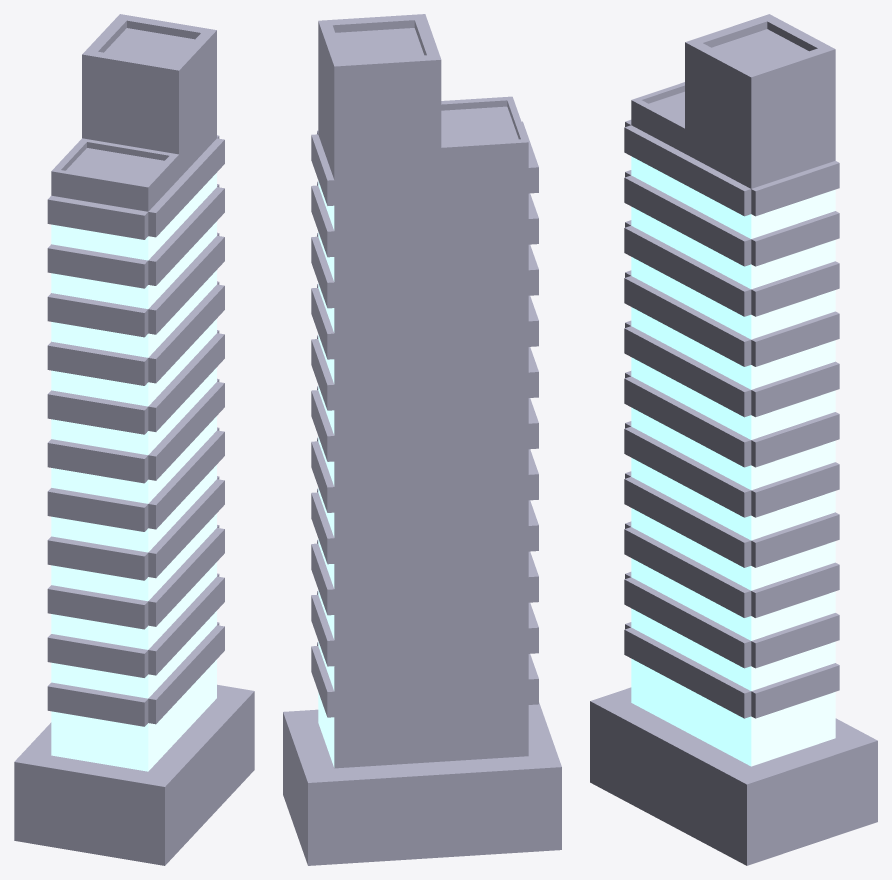
File: mrakodrap7.fbx
3 renders of one model, left to right at view 1: azimuth 30°, elevation 25°; view 2: azimuth 150°, elevation 25°; view 3: azimuth 270°, elevation 25°, orthographic. The views are drawn at different scales.
Visible parts, largest first — view 1: Cube.019; view 2: Cube.019; view 3: Cube.019.
Part boxes in pixels (left/top/right/bottom): Cube.019: left=14, top=14, right=254, bottom=865; Cube.019: left=283, top=14, right=561, bottom=865; Cube.019: left=590, top=14, right=877, bottom=865.
Size of the model in its own units: 268 by 757 by 256.
